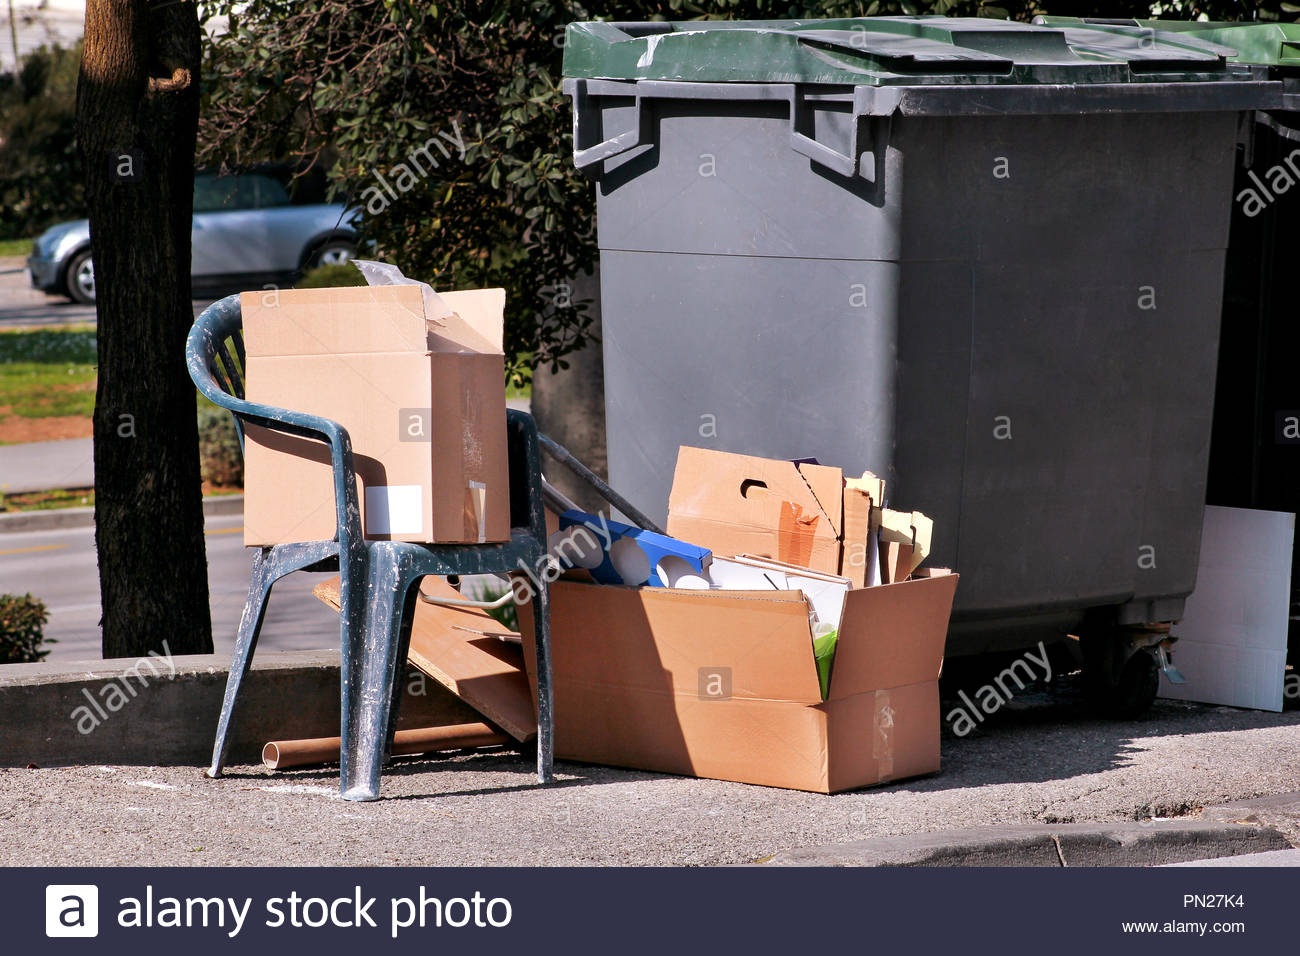Dumpster: (559, 9, 1207, 664)
